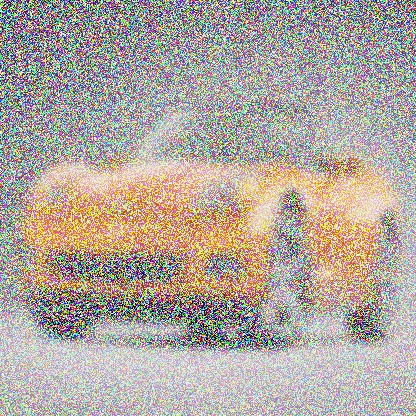Vehicle: (24, 104, 402, 352)
